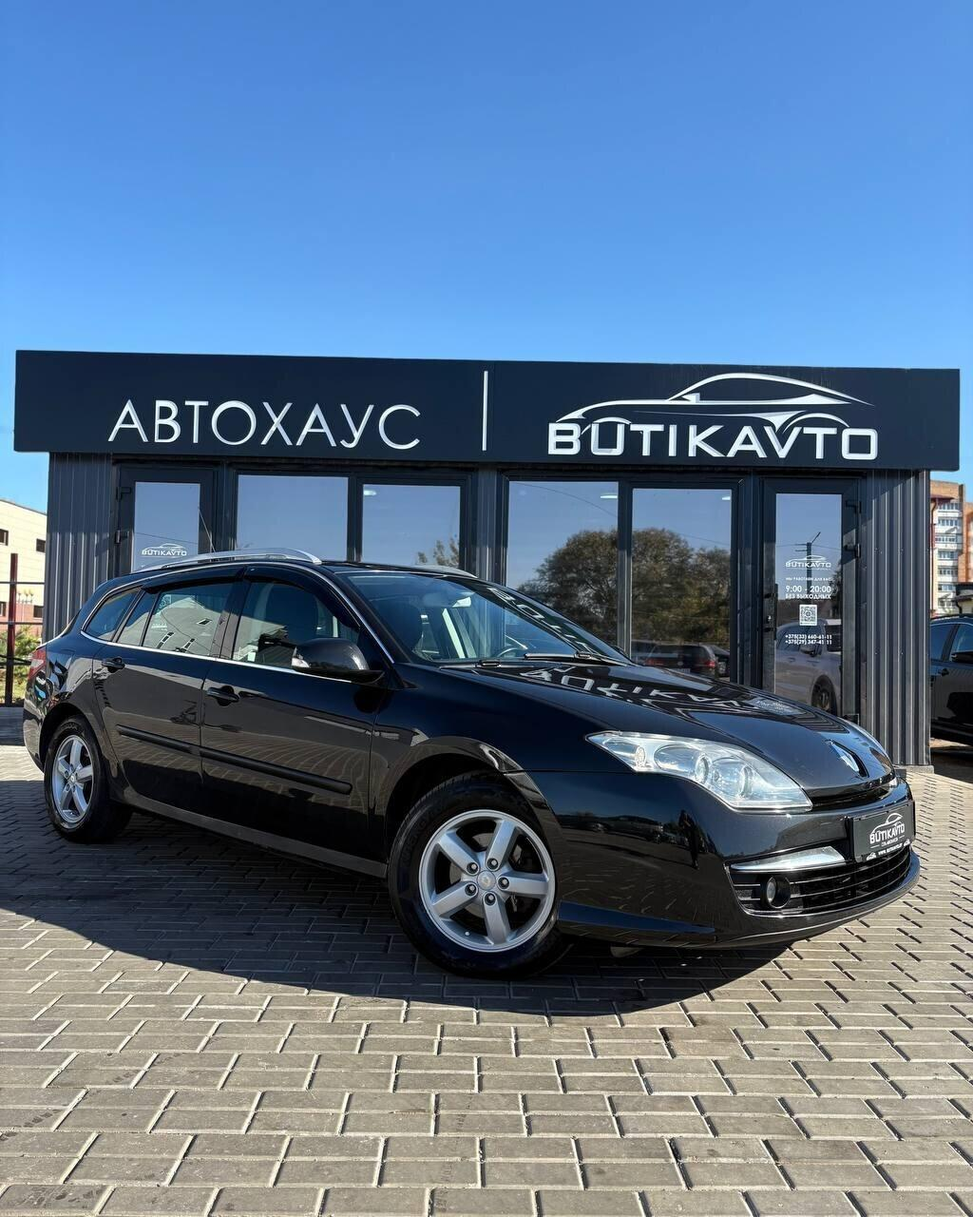Laguna_2007-2011: (25, 551, 919, 978)
